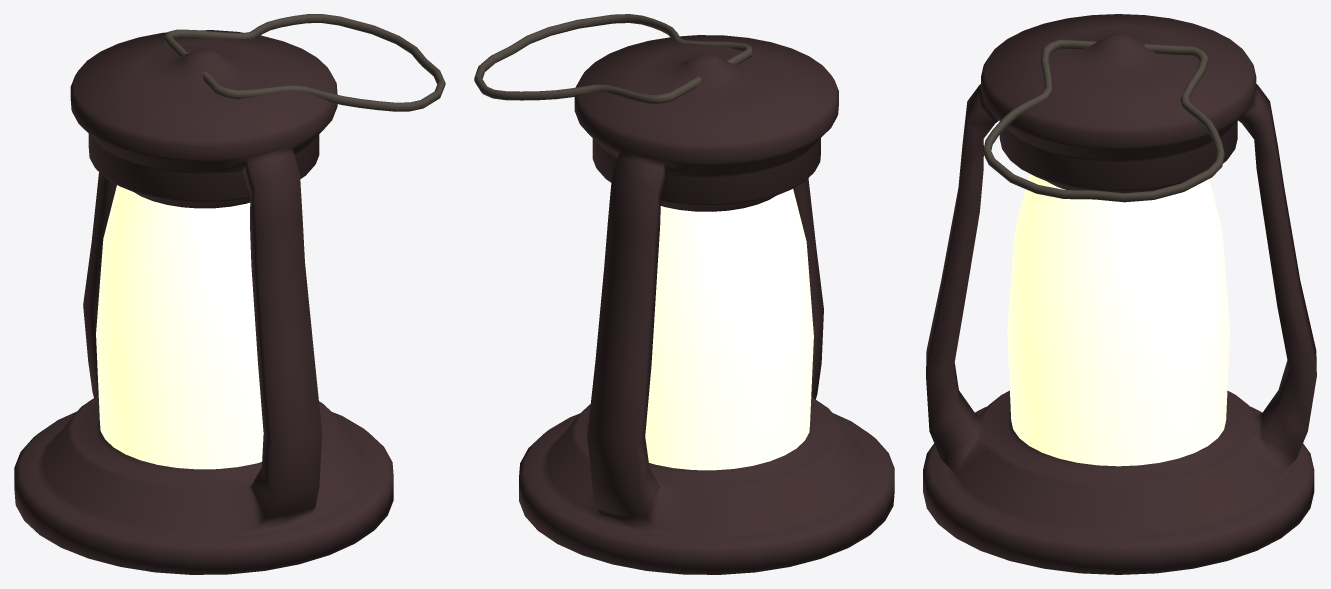
File: lantern.fbx
3 views of the same model, side by side, from view 1: azimuth 30°, elevation 25°; view 2: azimuth 150°, elevation 25°; view 3: azimuth 270°, elevation 25° (orthographic). The views are drawn at different scales.
Visible parts, largest first — view 1: Base, Light.001, Handle; view 2: Base, Light.001, Handle; view 3: Base, Light.001, Handle.
Part boxes in pixels (box(x1,y1,x2,y2)): Base: box(14, 30, 393, 574); Light.001: box(96, 185, 310, 469); Handle: box(163, 14, 445, 111); Base: box(519, 35, 894, 574); Light.001: box(645, 189, 813, 470); Handle: box(474, 14, 752, 104); Base: box(923, 14, 1316, 574); Light.001: box(1007, 173, 1230, 466); Handle: box(983, 39, 1224, 202).
Bounding box in the file's own units: 231 × 257 × 201.
